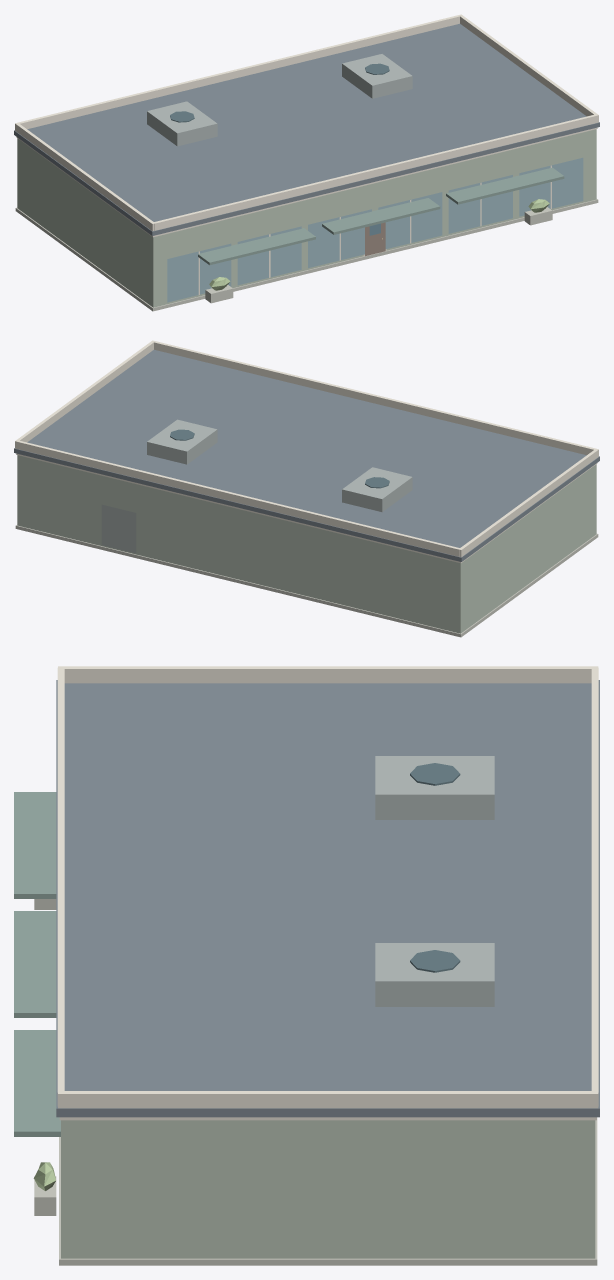
The model's file is shop-neighborhood-row.glb.
3 renders of one model, top to bottom at view 1: azimuth 30°, elevation 25°; view 2: azimuth 150°, elevation 25°; view 3: azimuth 270°, elevation 25°, orthographic. The views are drawn at different scales.
Visible parts, largest first — view 1: shop-neighborhood-row; view 2: shop-neighborhood-row; view 3: shop-neighborhood-row.
Boxes of the visible parts, x1,y1,x2,y2 form: shop-neighborhood-row: (14,14,599,311); shop-neighborhood-row: (14,340,599,637); shop-neighborhood-row: (14,666,599,1265).
Size of the model in its own units: 32.3 by 6.51 by 18.65.
